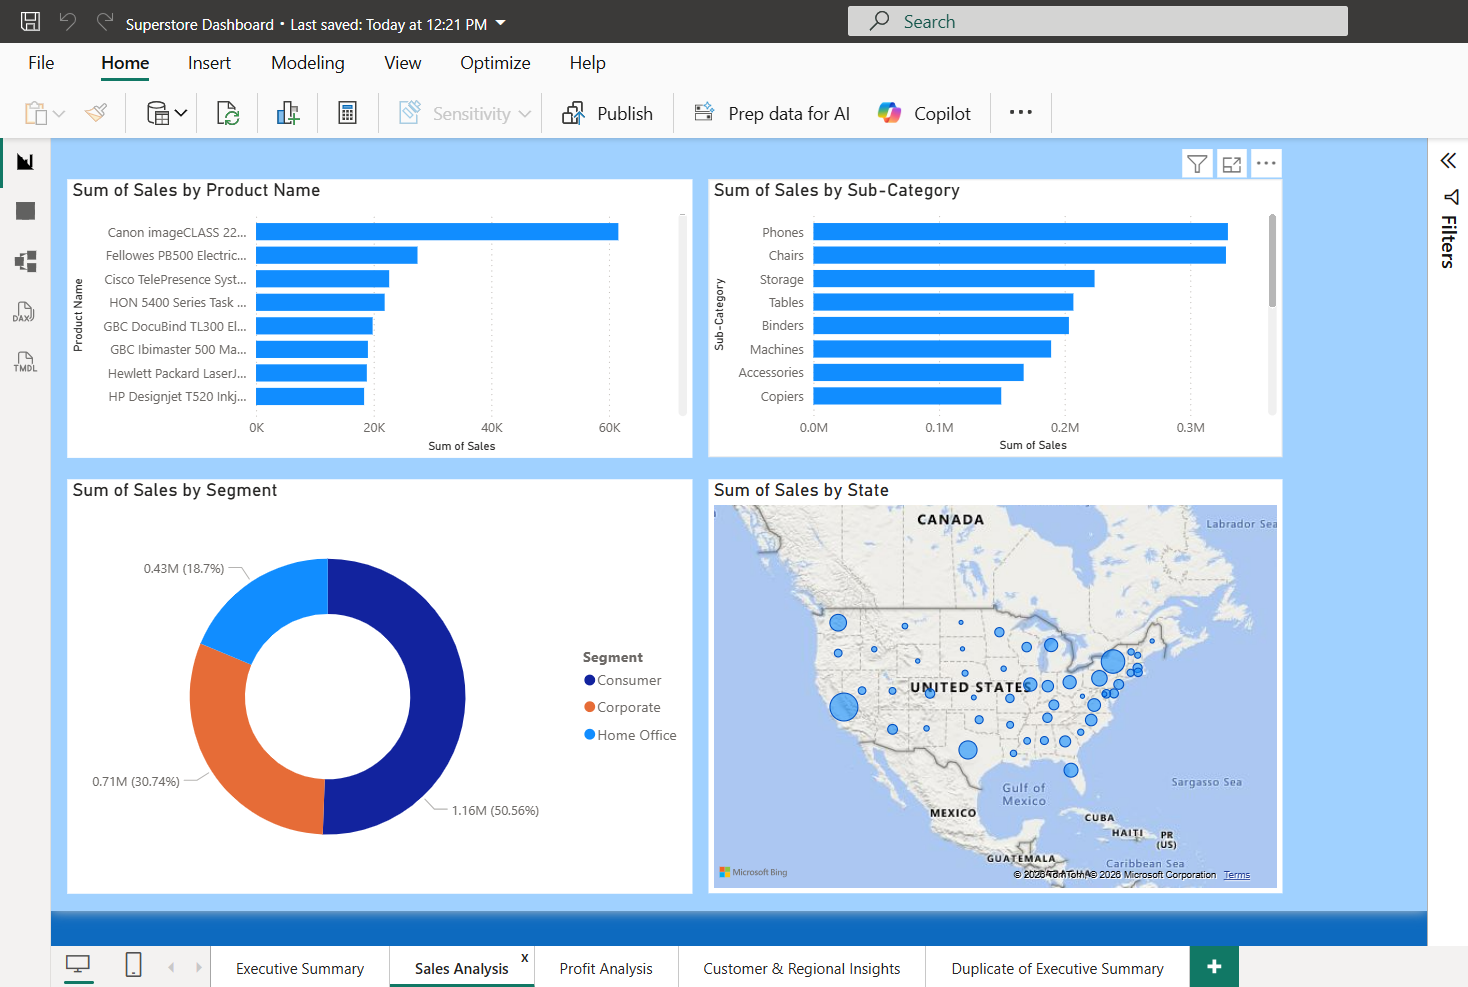

The page's visual inventory and layout, read from the dashboard file:
{"tool":"powerbi","page":{"name":"Sales Analysis","canvas":[1280,720],"ordinal":1},"visuals":[{"type":"clusteredBarChart","fields":{"Category":["Orders.Sub-Category"],"Y":["Sum(Orders.Sales)"]},"box":[611.2,38.8,533.8,258.8],"z":0},{"type":"clusteredBarChart","fields":{"Category":["Orders.Product Name"],"Y":["Sum(Orders.Sales)"]},"box":[15.1,38.4,581.8,259.3],"z":1000},{"type":"donutChart","fields":{"Category":["Orders.Segment"],"Y":["Sum(Orders.Sales)"]},"box":[15.1,317,581.8,385.6],"z":2000},{"type":"map","fields":{"Category":["Orders.State"],"Size":["Sum(Orders.Sales)"]},"box":[611.2,317.5,533.8,385],"z":3000}]}

Visuals, with their boxes on the page's 1280x720 design canvas (x1, y1, x2, y2). These are canvas units, not pixel positions in the 1468x987 screenshot, which may show the page scaled, cropped or inside an application window:
clusteredBarChart - Orders.Sub-Category x Sum(Orders.Sales): [x1=611, y1=39, x2=1145, y2=298]
clusteredBarChart - Orders.Product Name x Sum(Orders.Sales): [x1=15, y1=38, x2=597, y2=298]
donutChart - Orders.Segment x Sum(Orders.Sales): [x1=15, y1=317, x2=597, y2=703]
map - Orders.State x Sum(Orders.Sales): [x1=611, y1=318, x2=1145, y2=702]
